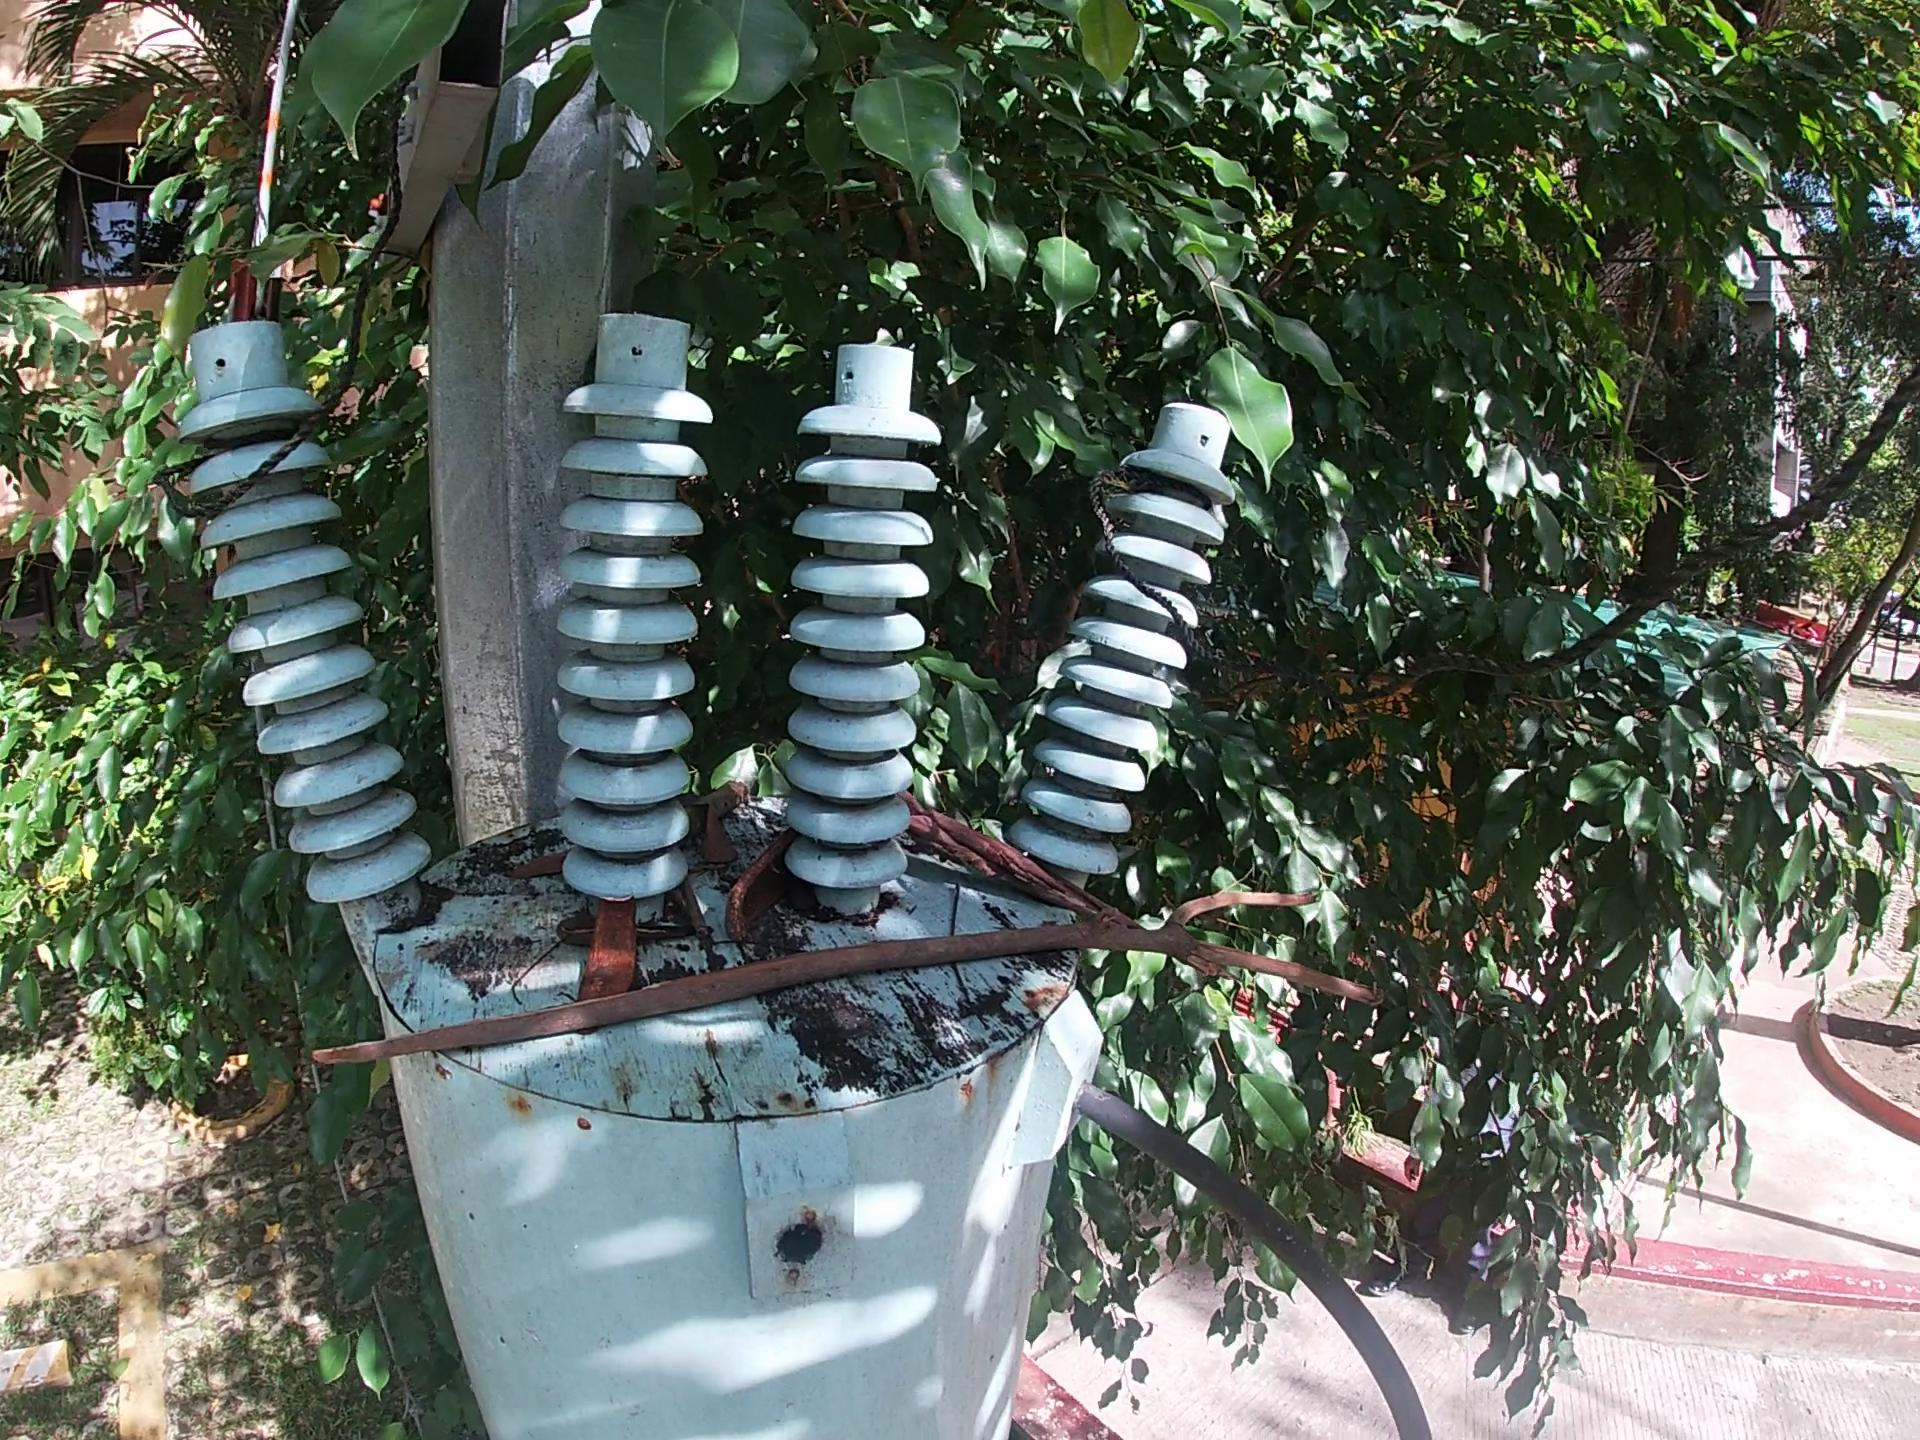leaf: (694, 794, 739, 877), (488, 849, 578, 883), (553, 902, 594, 954)
mahogany fruit: (720, 830, 804, 954), (568, 888, 646, 1004)
tree branch: (295, 877, 1389, 1071), (900, 793, 1150, 932), (689, 777, 745, 835), (677, 877, 715, 945)
